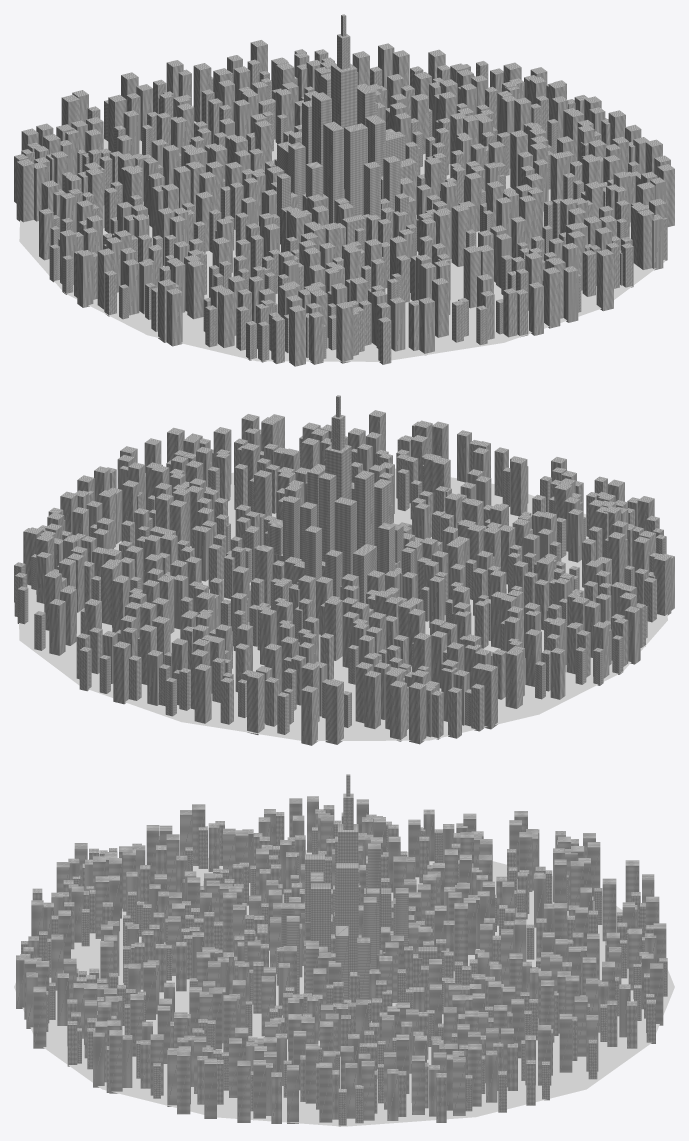
File: city.dae
3 views of the same model, one above another, from view 1: azimuth 30°, elevation 25°; view 2: azimuth 150°, elevation 25°; view 3: azimuth 270°, elevation 25° (orthographic). The views are drawn at different scales.
Visible parts, largest first — view 1: Plane|Cube.001|Dupli|75; view 2: Plane|Cube.001|Dupli|75; view 3: Plane|Cube.001|Dupli|75.
Boxes of the visible parts, x1=… form: Plane|Cube.001|Dupli|75: x1=14, y1=14, x2=674, y2=366; Plane|Cube.001|Dupli|75: x1=14, y1=395, x2=674, y2=745; Plane|Cube.001|Dupli|75: x1=14, y1=774, x2=674, y2=1126.
Bounding box in the file's own units: 5272 × 5272 × 2369.
2 materials, 1 textured.
